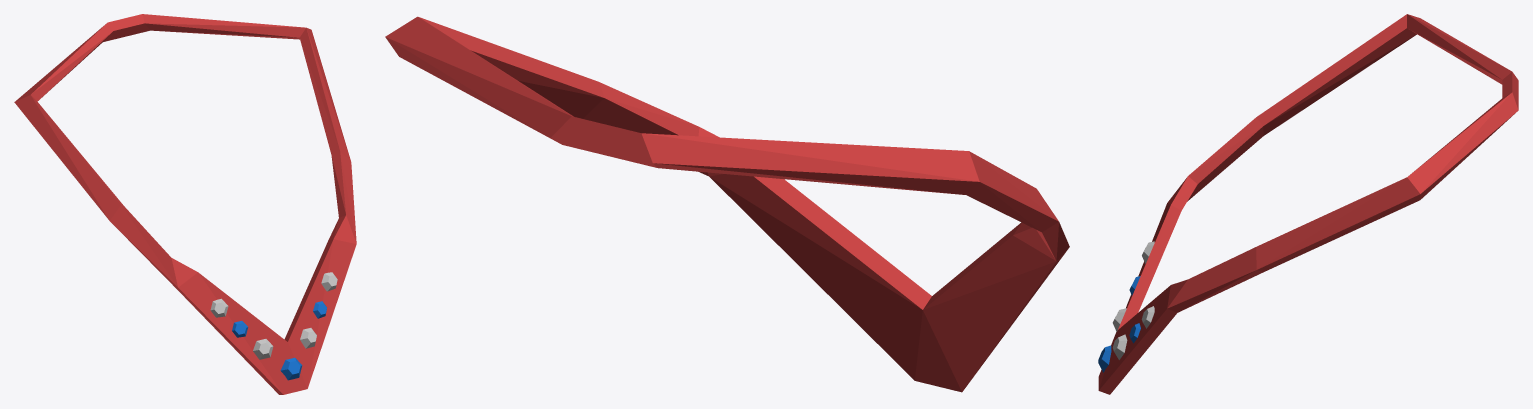
File: SM_necklace_7.fbx
3 views of the same model, side by side, from view 1: azimuth 30°, elevation 25°; view 2: azimuth 150°, elevation 25°; view 3: azimuth 270°, elevation 25° (orthographic). The views are drawn at different scales.
Parts seen in each view (by area): view 1: Symmetry_9; view 2: Symmetry_9; view 3: Symmetry_9.
Boxes of the visible parts, box(x1,y1,x2,y2) form: Symmetry_9: box(14, 14, 356, 394); Symmetry_9: box(385, 16, 1069, 392); Symmetry_9: box(1098, 14, 1518, 394).
Size of the model in its own units: 22 by 17.85 by 22.2.
